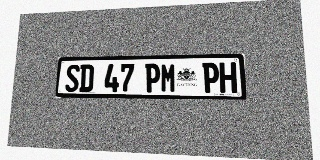4: (104, 64, 119, 92)
7: (119, 64, 134, 92)
D: (79, 64, 94, 92)
H: (219, 62, 237, 93)
M: (160, 63, 176, 93)
P: (202, 62, 219, 93), (145, 63, 160, 92)
S: (65, 64, 80, 92)
